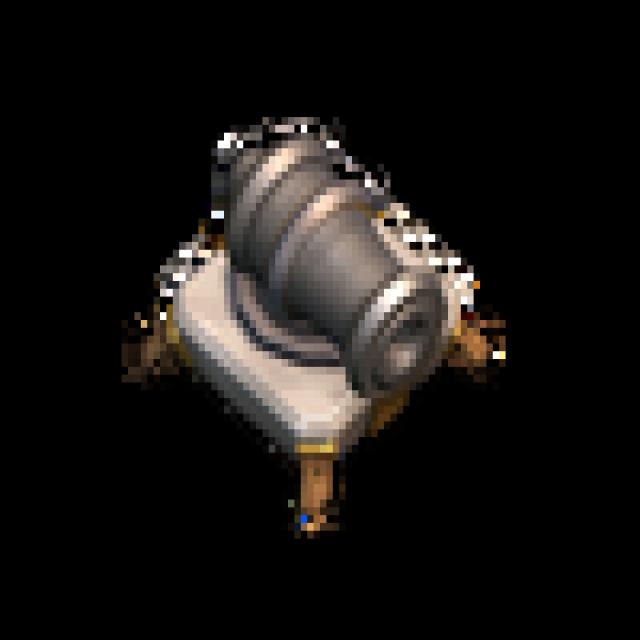cannon: (121, 96, 518, 539)
